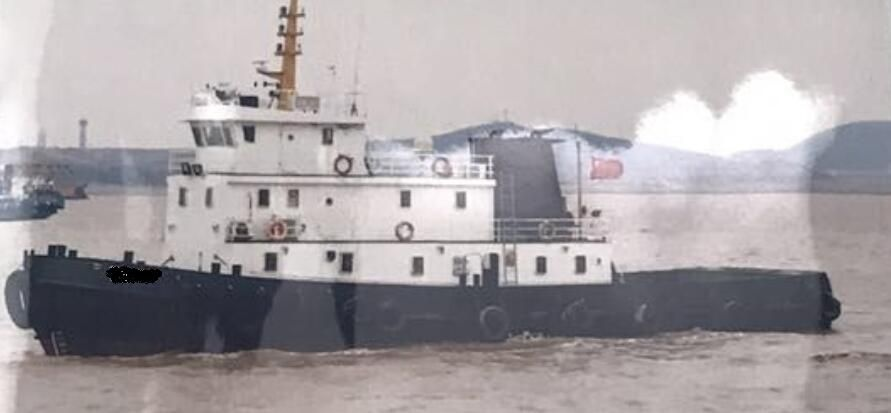otherboat: (23, 1, 846, 365)
